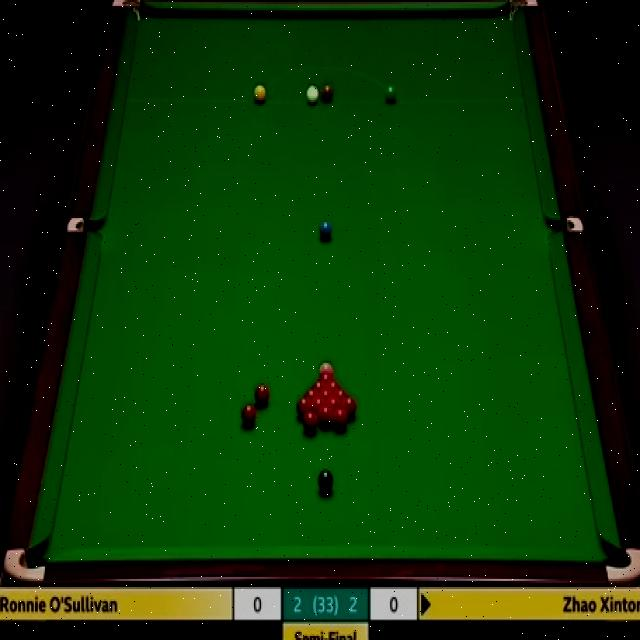black-ball: (317, 466, 333, 494)
blue-ball: (320, 220, 333, 243)
brown-ball: (321, 84, 334, 102)
green-ball: (385, 84, 396, 104)
pink-ball: (318, 358, 334, 375)
red-ball: (240, 404, 259, 429), (186, 417, 202, 444), (301, 412, 318, 436), (318, 405, 333, 429), (340, 397, 358, 417), (296, 397, 312, 418), (334, 409, 349, 431), (310, 396, 326, 412), (327, 398, 340, 416), (324, 381, 342, 391), (318, 389, 334, 400), (333, 389, 350, 399), (317, 372, 334, 381), (309, 381, 325, 390), (304, 390, 318, 400)
white-ball: (304, 84, 320, 108)
yellow-ball: (253, 83, 267, 104)
